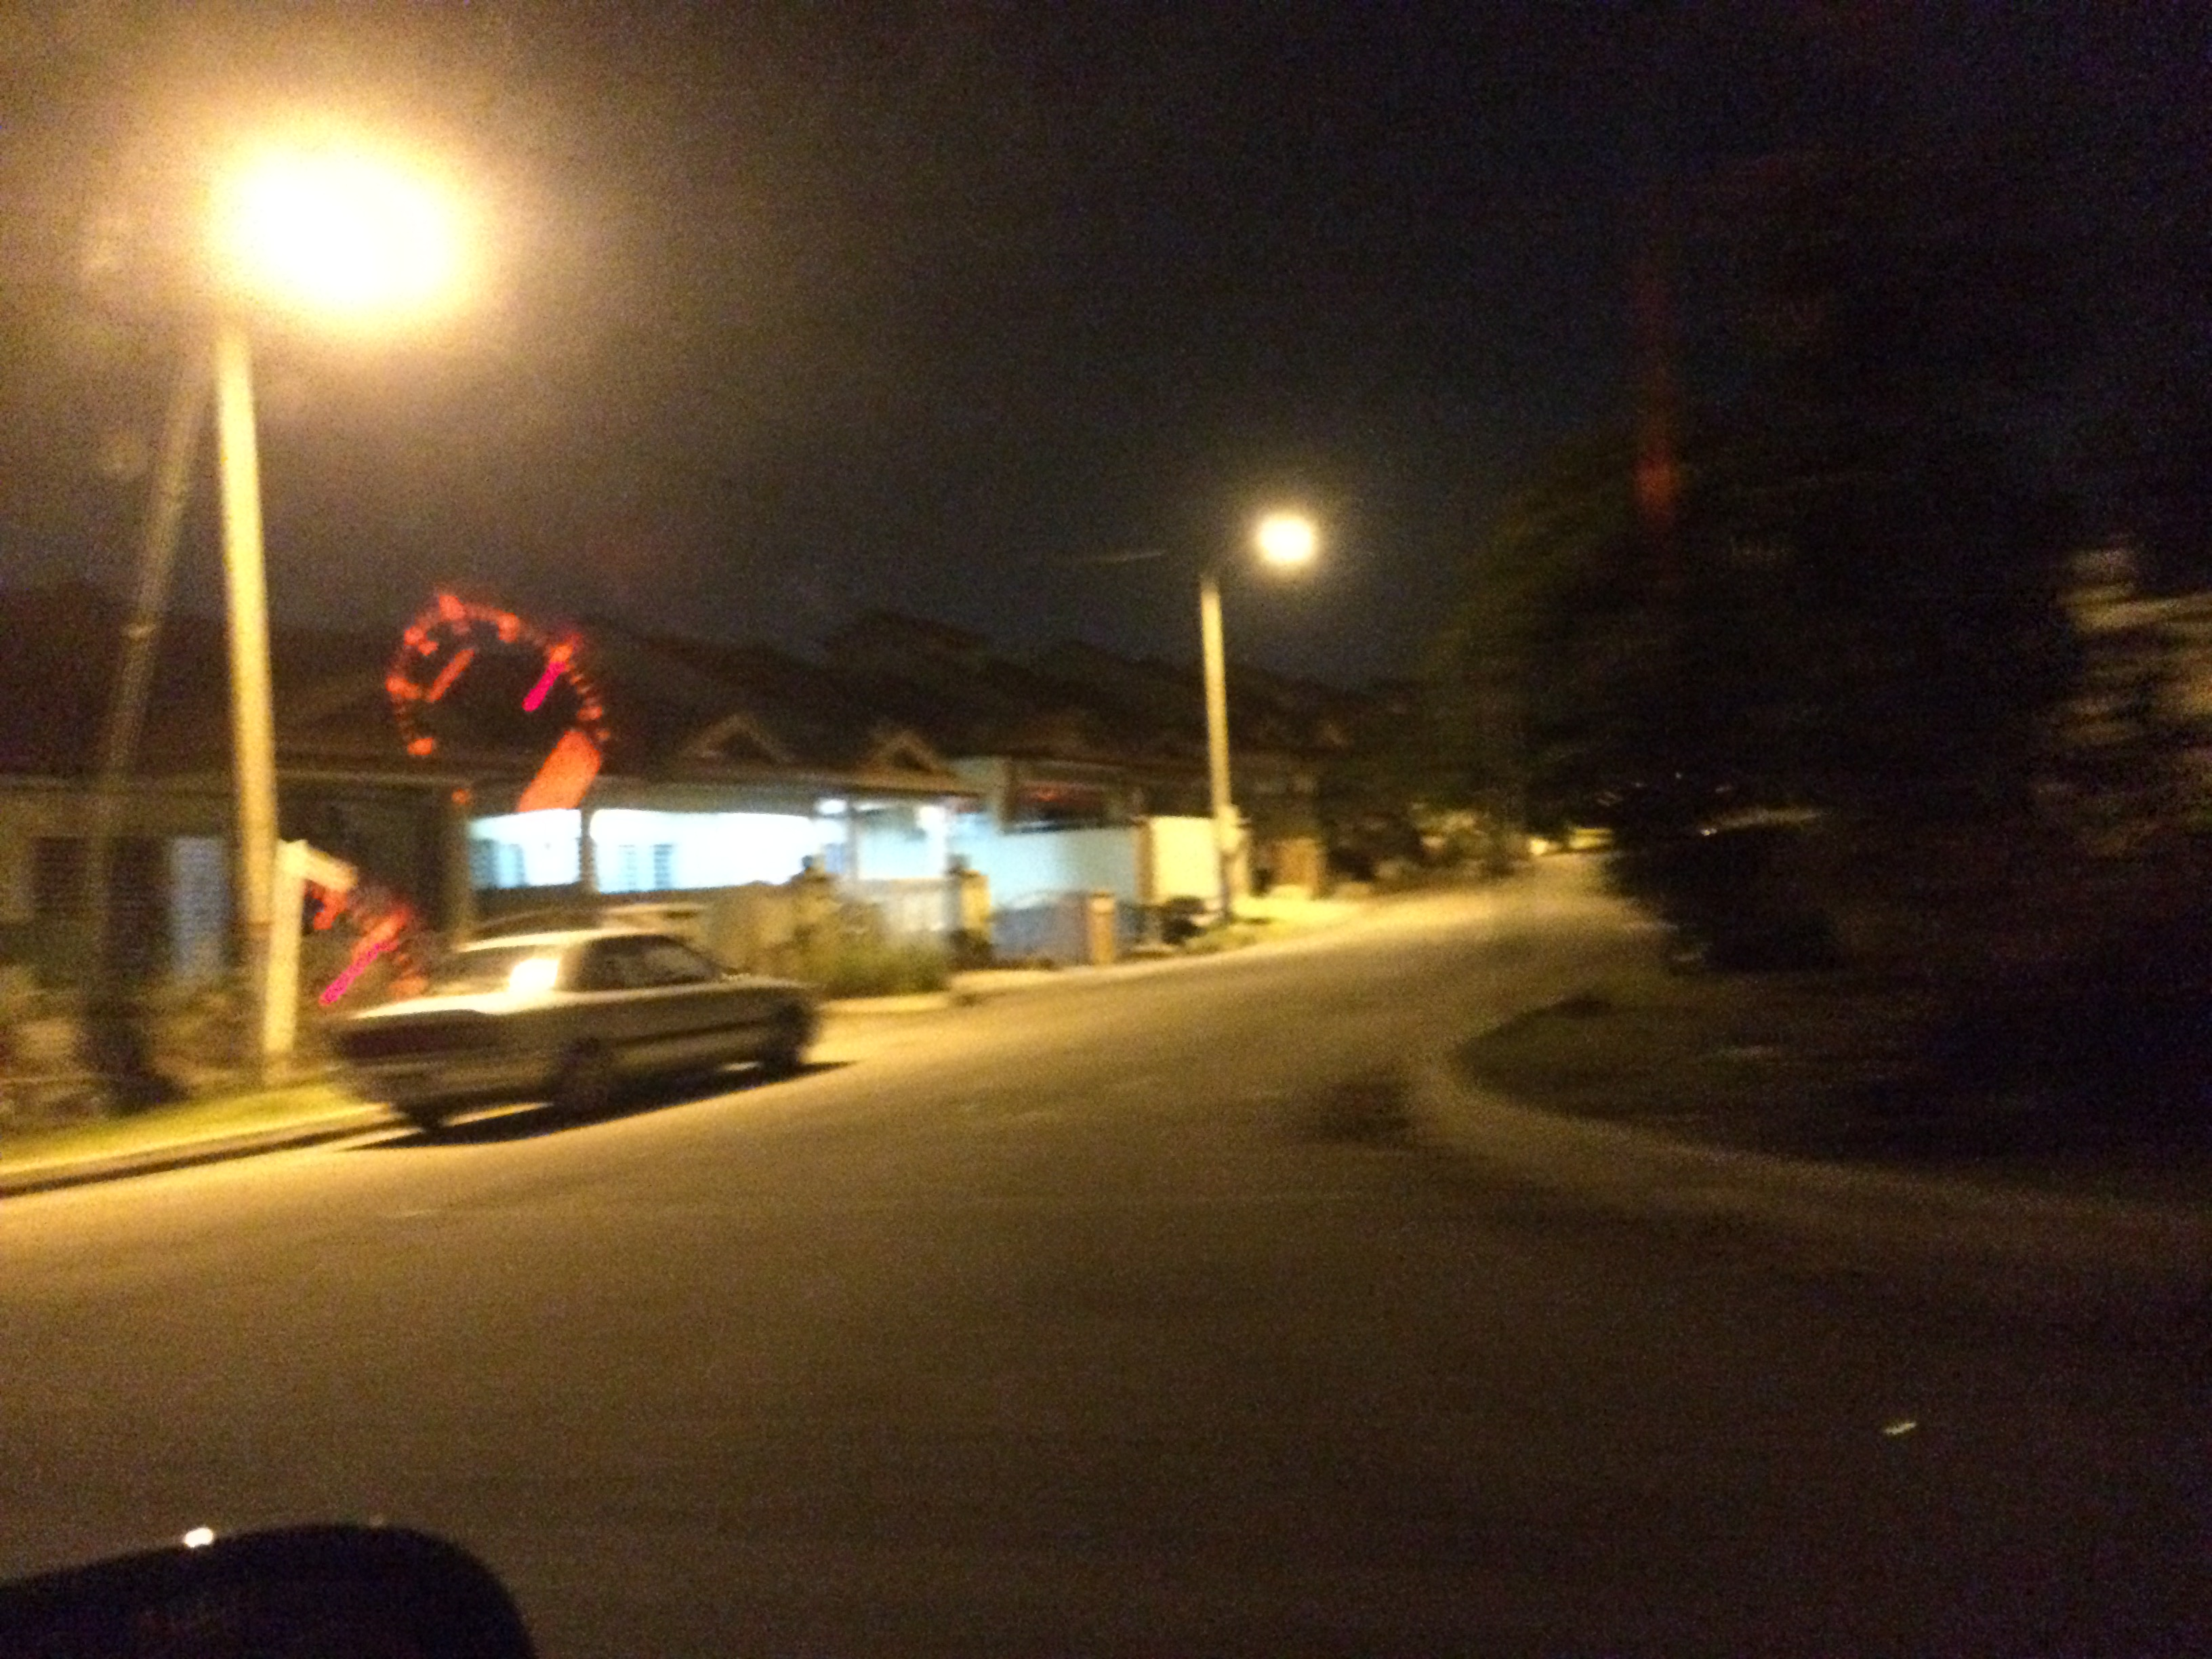car: (314, 904, 838, 1168)
